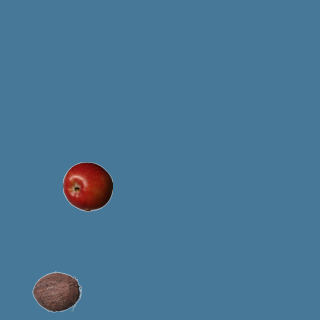Apple Braeburn: (62, 161, 112, 211)
Cocos: (31, 266, 81, 316)
